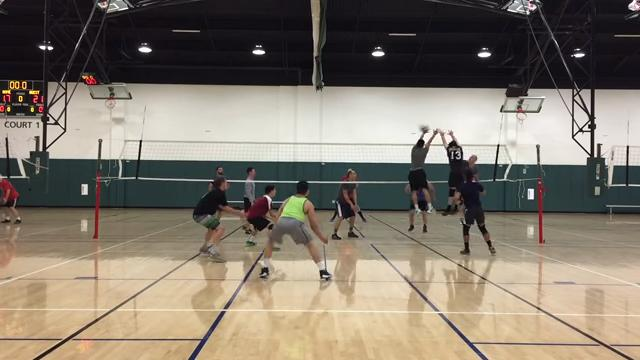Attack: (436, 143, 482, 220)
Block: (404, 123, 439, 218), (435, 124, 465, 219)
Player: (260, 181, 331, 279), (193, 176, 244, 261), (455, 171, 495, 254), (331, 170, 358, 239), (246, 185, 276, 245), (243, 167, 255, 212), (417, 191, 427, 232), (209, 166, 223, 190), (329, 202, 337, 221)
ball: (419, 124, 430, 133)
